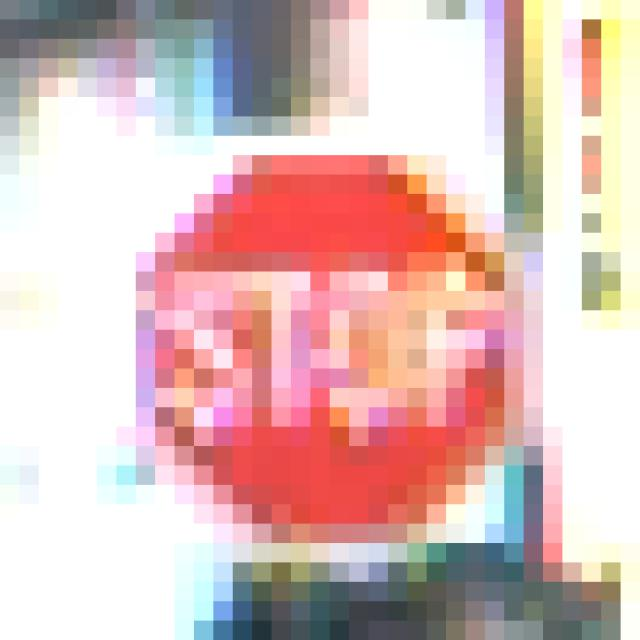STOP: (117, 98, 525, 525)
